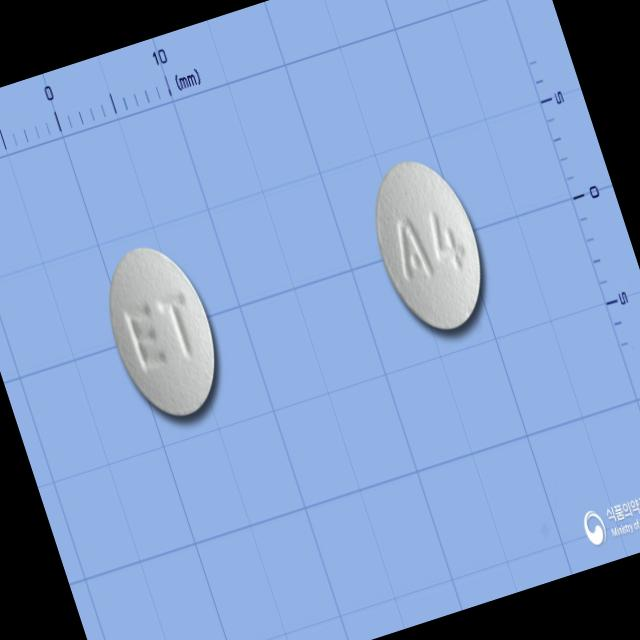Leprex: (356, 146, 502, 347), (90, 234, 234, 428)
